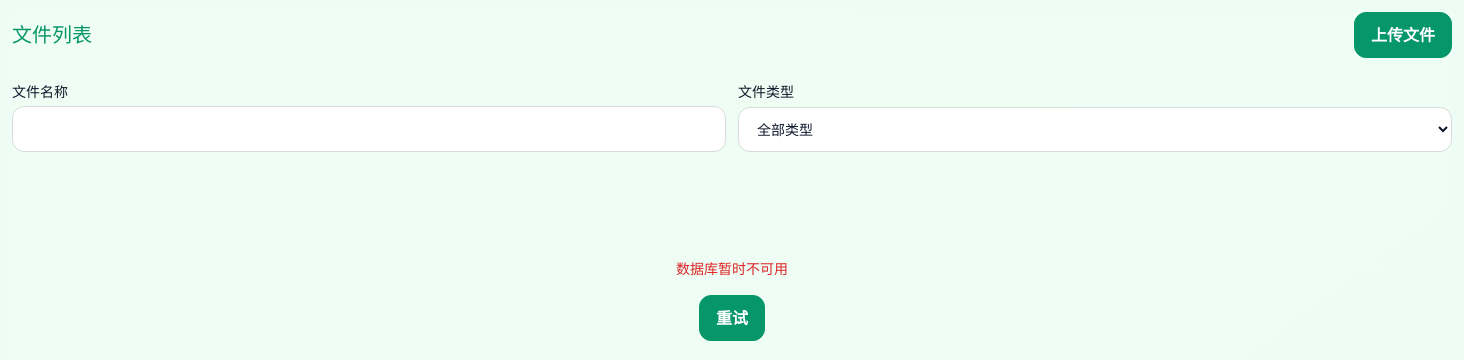
FileListPage › shows the detailed load error and retries into the empty state
Expected: the message shows "数据库暂时不可用", [676, 260, 788, 277]
Expected: the number of messages is 1, [676, 260, 788, 341]
Step 1. Click the button "重试" → click(732, 318), box [699, 295, 765, 341]
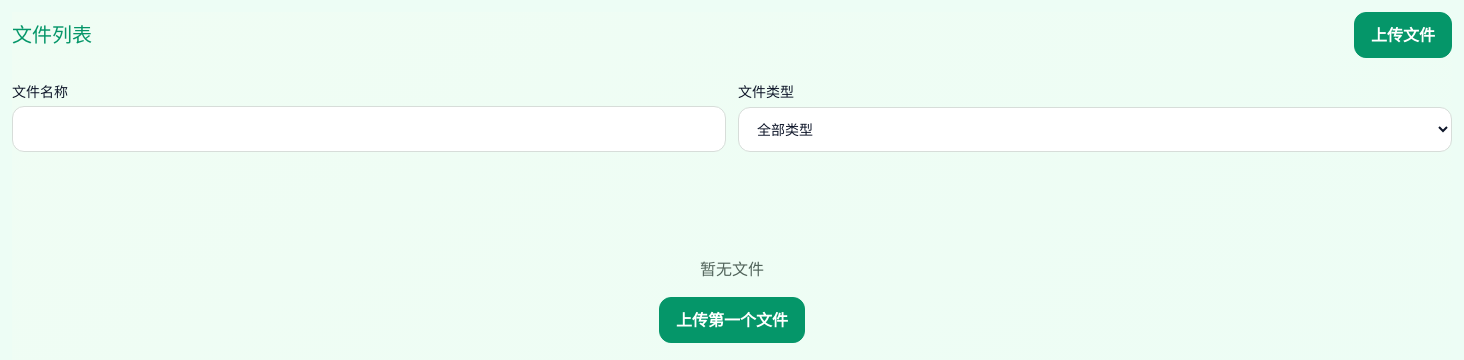
Now the text "暂无文件" is shown, box [700, 257, 764, 281]
